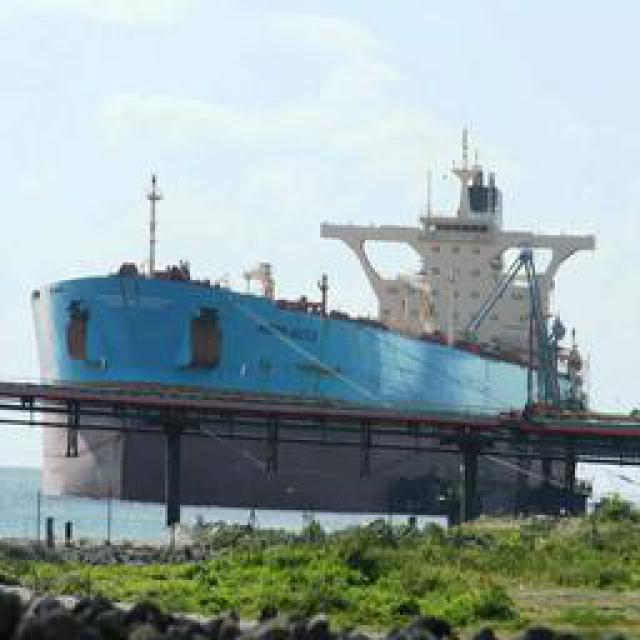Ship: (29, 140, 609, 428)
